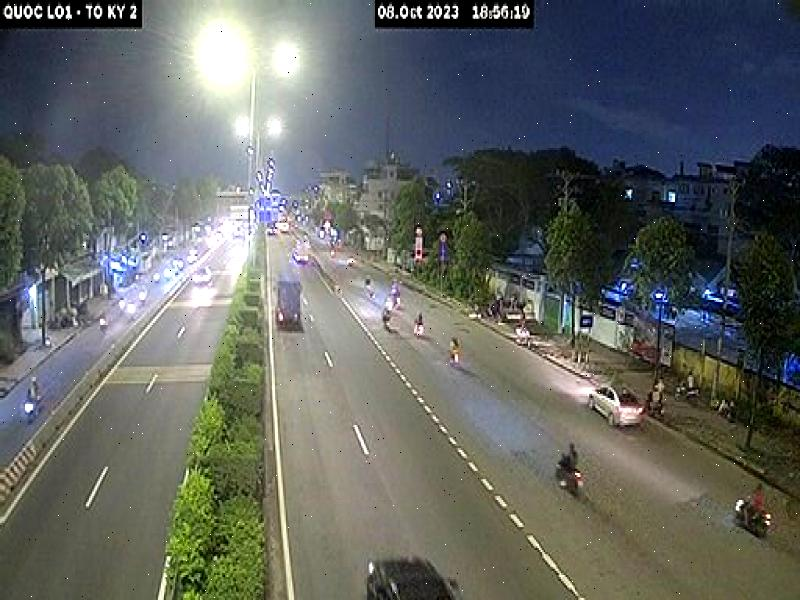car: (566, 360, 653, 456)
